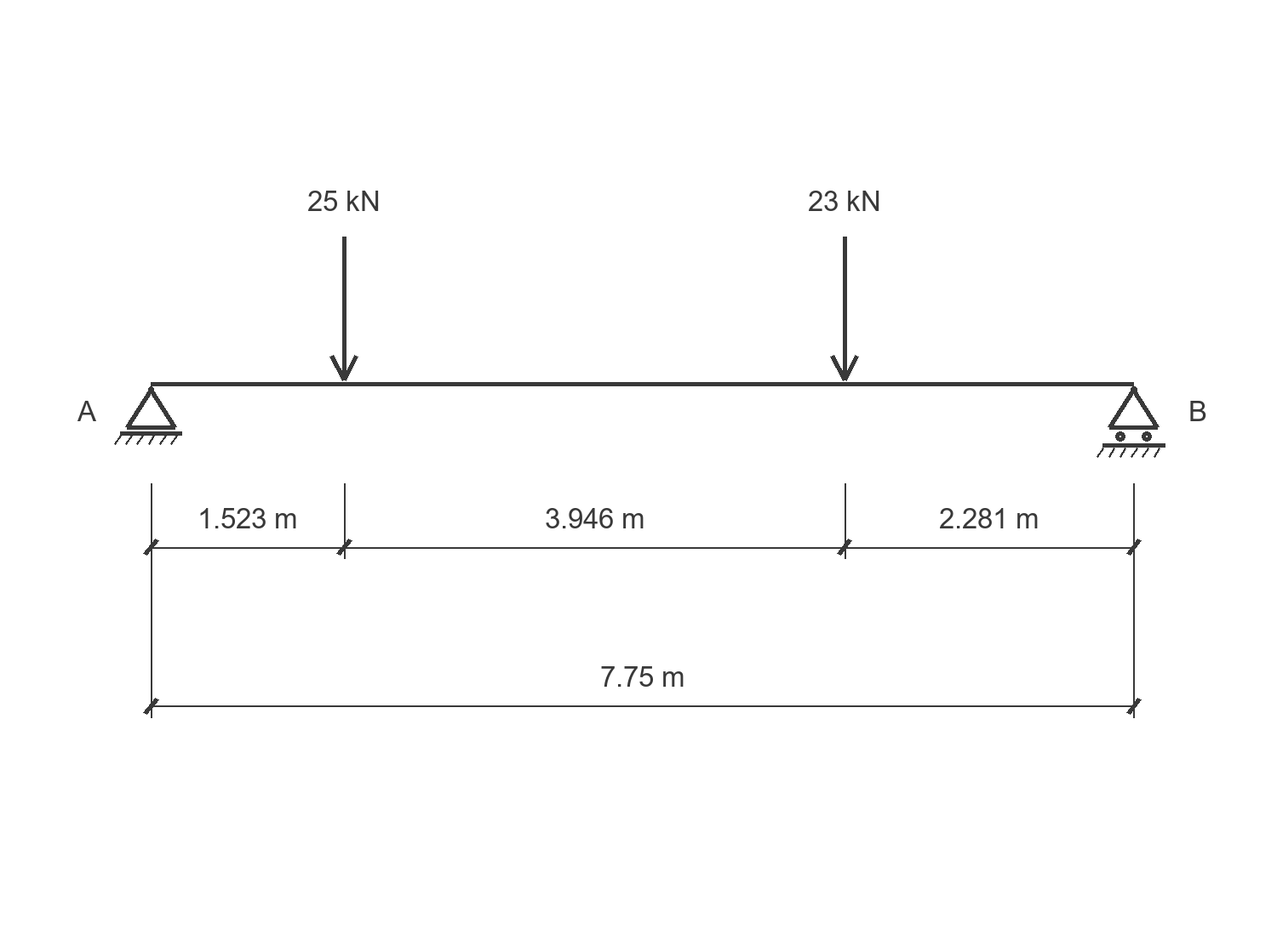pin_support: (114, 386, 182, 445)
point_load: (329, 237, 358, 381), (830, 237, 859, 381)
roller_support: (1097, 386, 1165, 458)
